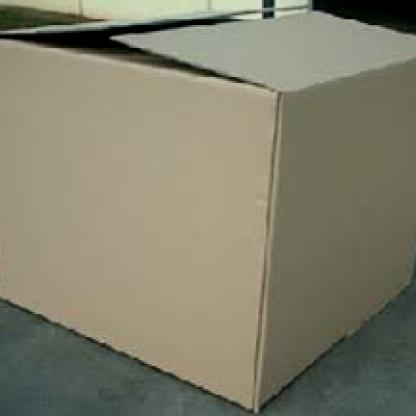package: (0, 4, 416, 414)
